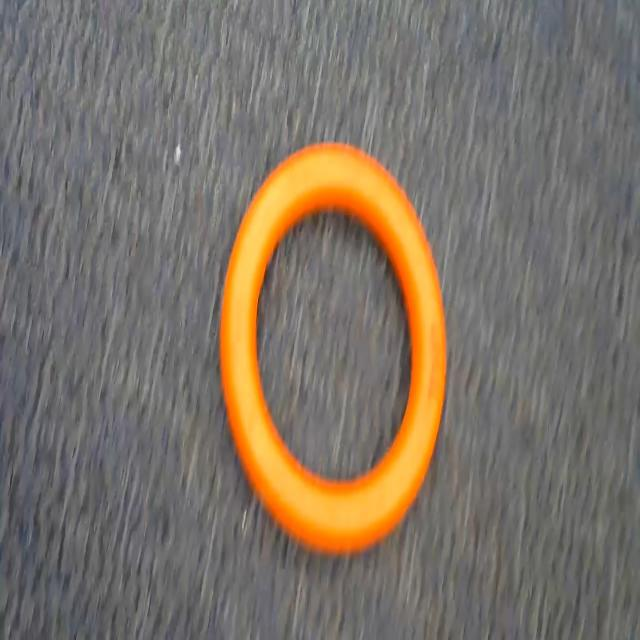note: (214, 131, 458, 556)
